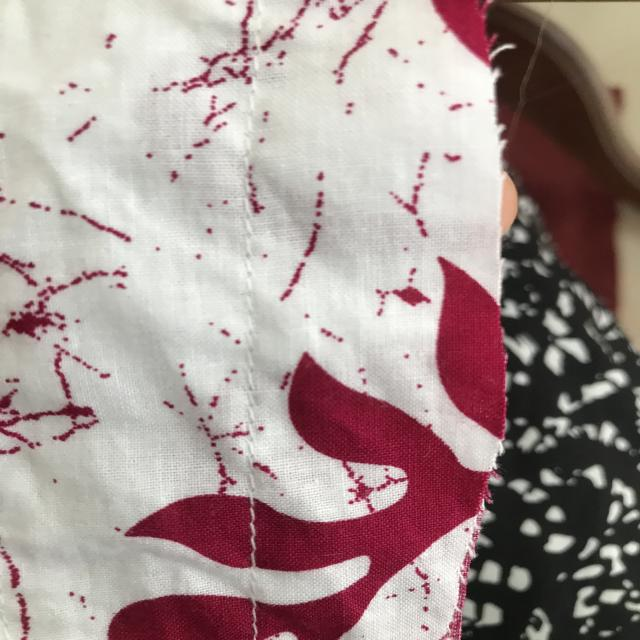good: (237, 506, 269, 558)
